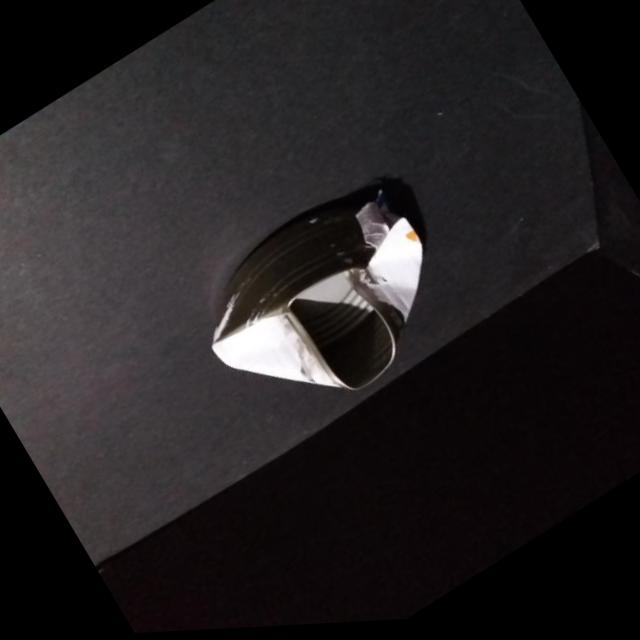metal: (212, 178, 423, 388)
